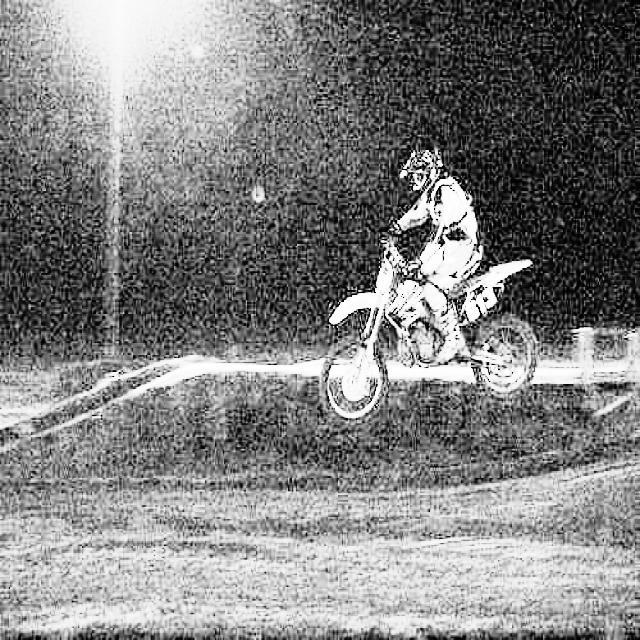Motorcycle: (326, 246, 552, 415)
